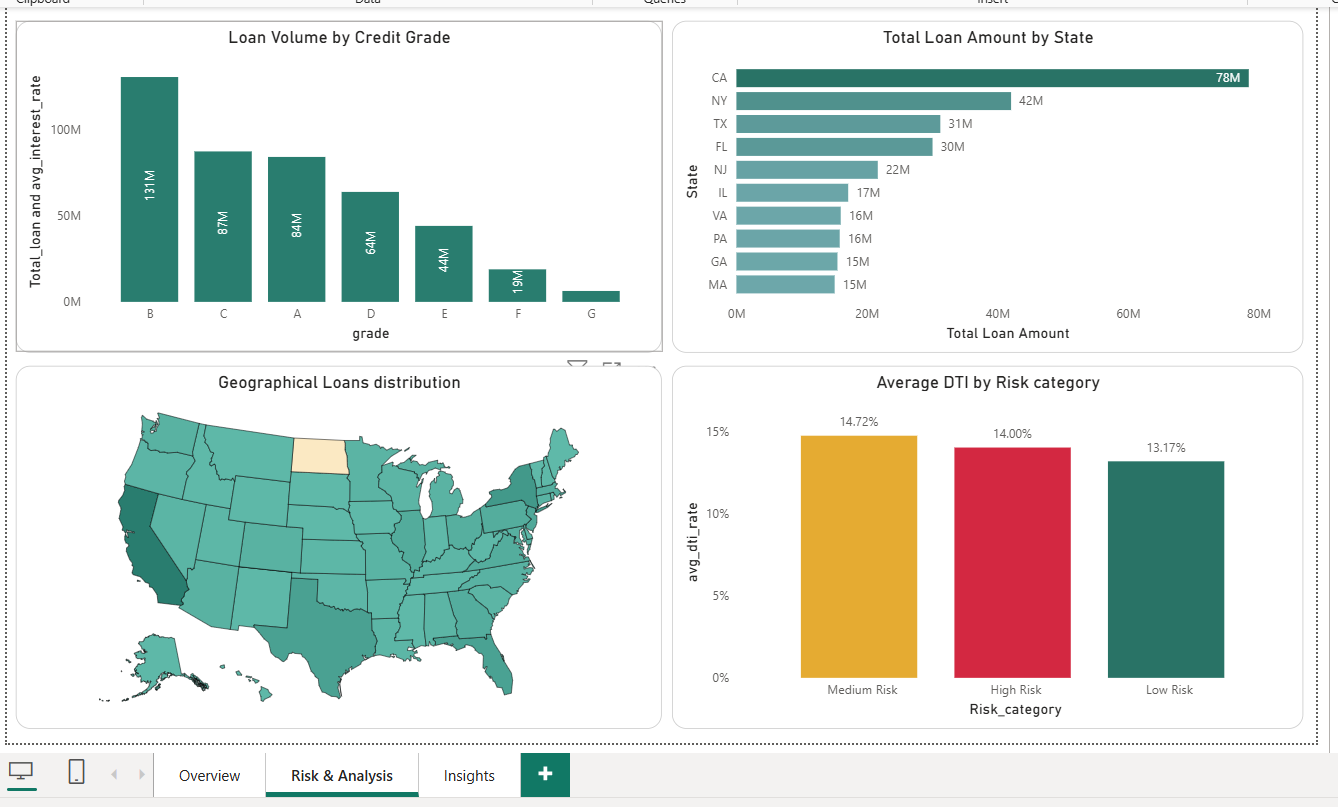

The page's visual inventory and layout, read from the dashboard file:
{"tool":"powerbi","page":{"name":"Risk & Analysis","canvas":[1280,720],"ordinal":1},"visuals":[{"type":"columnChart","title":"Loan Volume by Credit Grade","fields":{"Category":["bank_loan_project clean_loans.grade"],"Y":["bank_loan_project clean_loans.Total_loan","bank_loan_project clean_loans.avg_interest_rate"]},"box":[8.7,13,631.9,324.6],"z":0},{"type":"shapeMap","title":"Geographical Loans distribution","fields":{"Category":["bank_loan_project clean_loans.address_state"],"Value":["bank_loan_project clean_loans.Total_loan"]},"box":[8.7,350.6,631.9,354.9],"z":1000},{"type":"clusteredBarChart","fields":{"Category":["bank_loan_project clean_loans.address_state"],"Y":["bank_loan_project clean_loans.Total_loan"]},"box":[650.7,13,617.5,324.6],"z":2000},{"type":"columnChart","title":"Average DTI by Risk category","fields":{"Category":["bank_loan_project clean_loans.Risk_category"],"Y":["bank_loan_project clean_loans.avg_dti_rate"]},"box":[650.7,350.6,617.5,354.9],"z":4000}]}

Visuals, with their boxes on the page's 1280x720 design canvas (x1, y1, x2, y2). These are canvas units, not pixel positions in the 1338x807 screenshot, which may show the page scaled, cropped or inside an application window:
"Loan Volume by Credit Grade" columnChart: region(9, 13, 641, 338)
"Geographical Loans distribution" shapeMap: region(9, 351, 641, 706)
clusteredBarChart - bank_loan_project clean_loans.address_state x bank_loan_project clean_loans.Total_loan: region(651, 13, 1268, 338)
"Average DTI by Risk category" columnChart: region(651, 351, 1268, 706)
